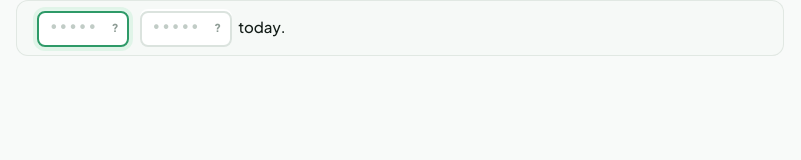
Test: FillInBlanksDictation › reveals blank via inline ? hint button or Alt+H and auto-completes when last blank becomes valid
# Click inline ? button on first blank
Click the button named "reveal hint".
click(115, 28)  # box [105,18,125,38]
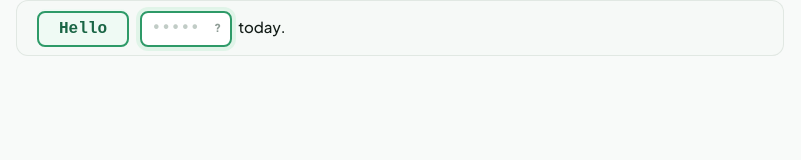
Result: the field named "Blank 1" holds "Hello" at [37,11,129,47]
Press ˙ in the field named "Blank 2", box [140,11,232,47]
Wait 40 ms
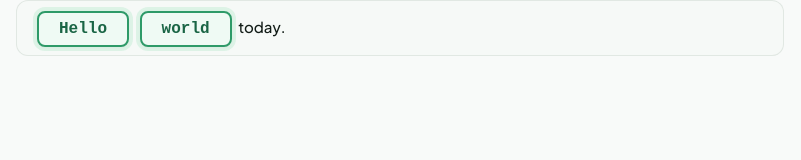
Result: the field named "Blank 2" holds "world" at [140,11,232,47]
